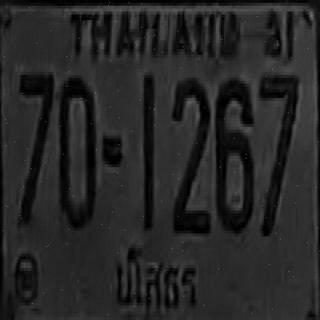N00: (58, 74, 94, 226)
N01: (142, 71, 154, 229)
N02: (170, 75, 209, 231)
N06: (214, 75, 253, 231)
N07: (258, 71, 298, 235), (18, 72, 53, 225)
P77: (110, 239, 198, 315)
